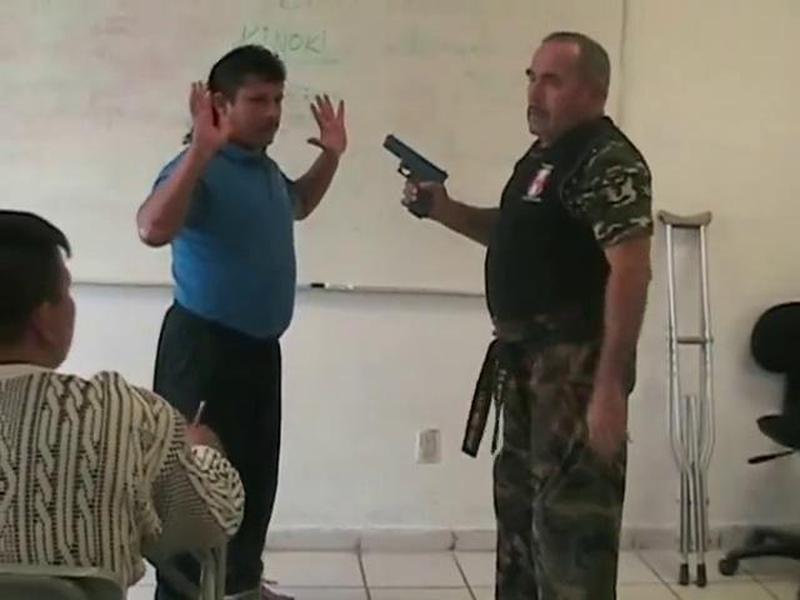Pistola: (380, 129, 447, 222)
